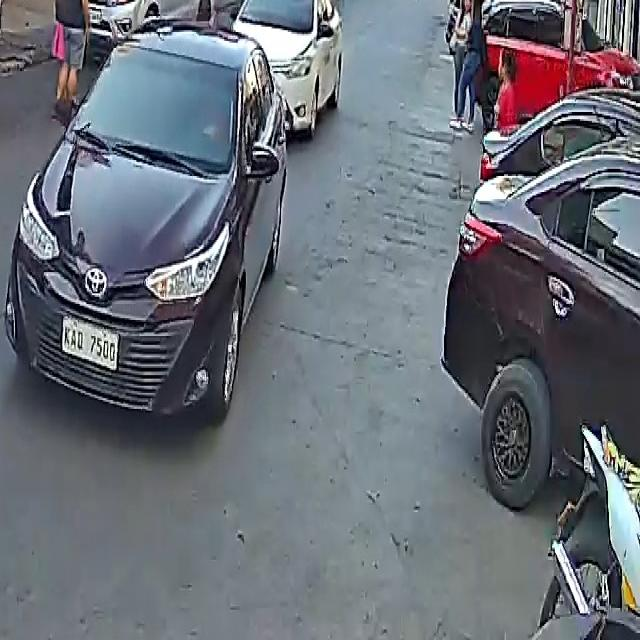car: (2, 25, 290, 423), (443, 85, 640, 520), (478, 0, 638, 139), (227, 0, 343, 139), (78, 0, 213, 32)
